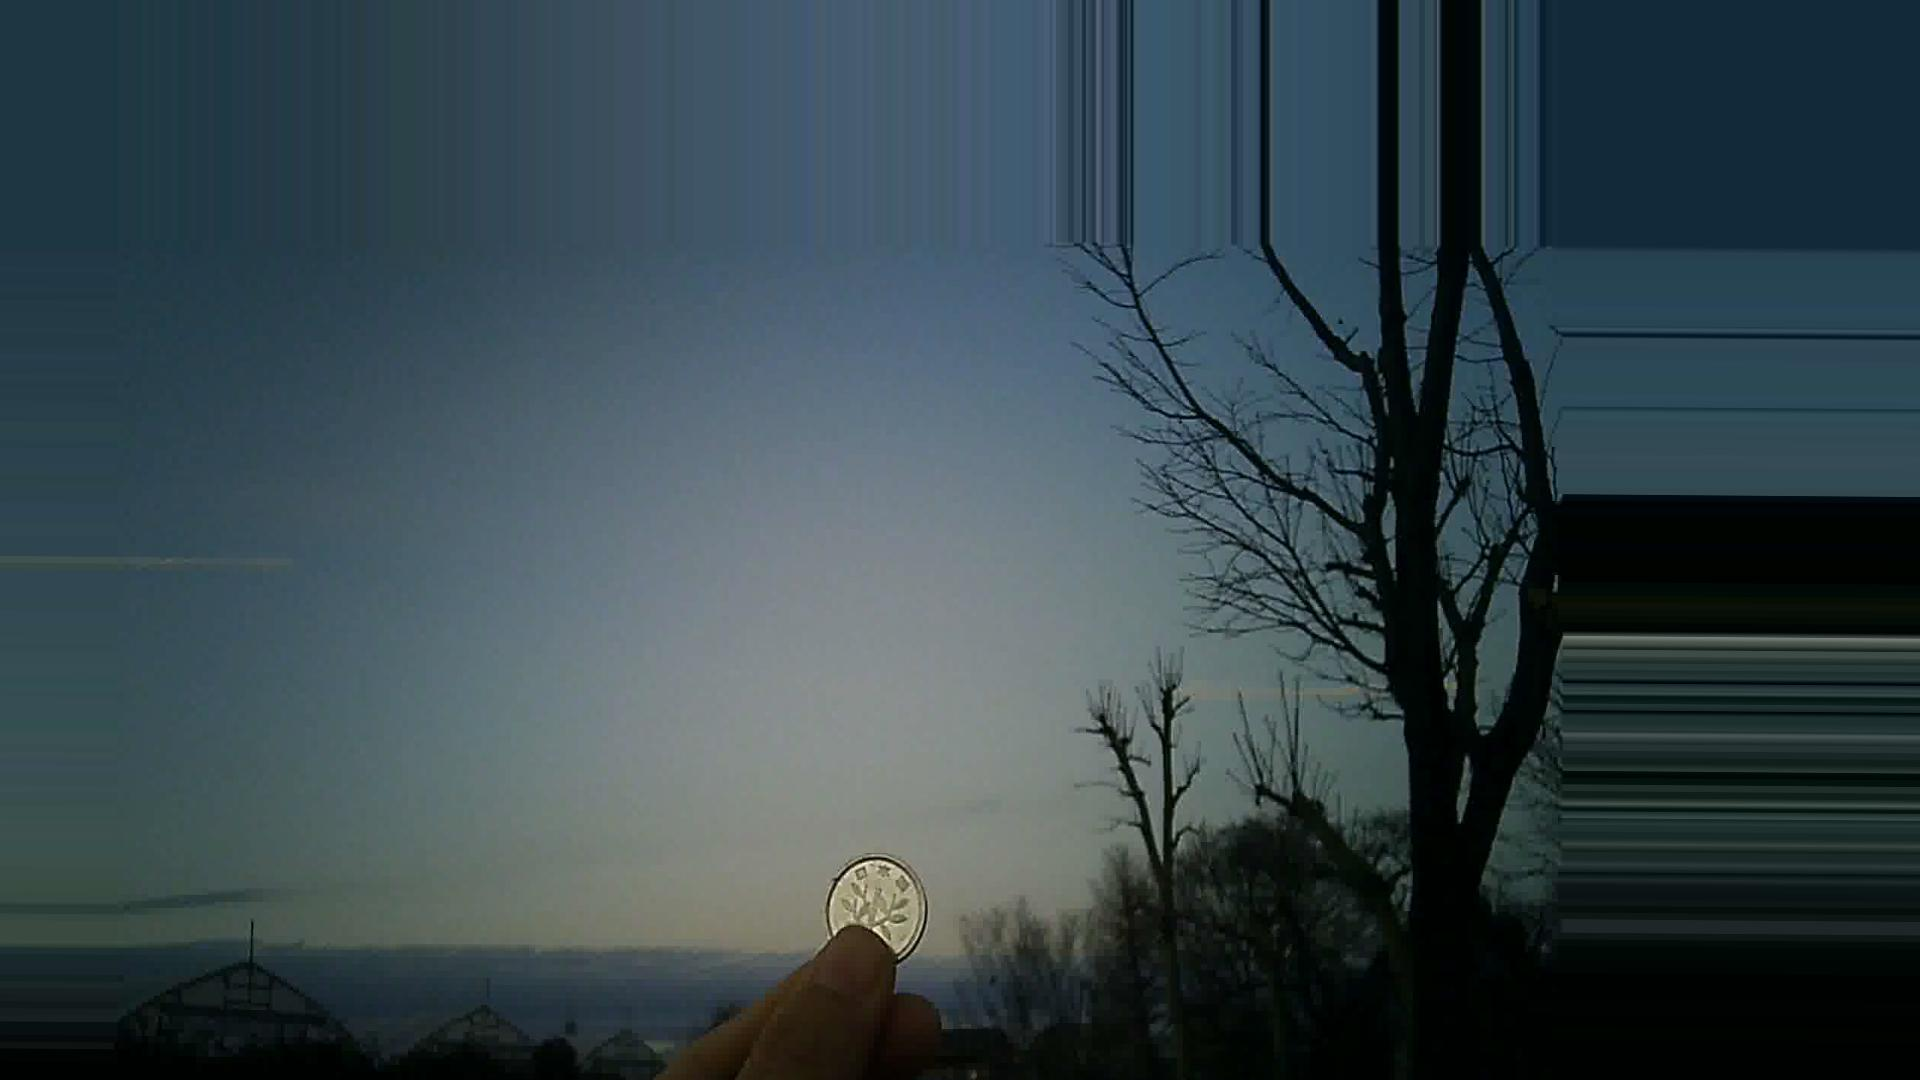1 Yen: (804, 843, 942, 955)
